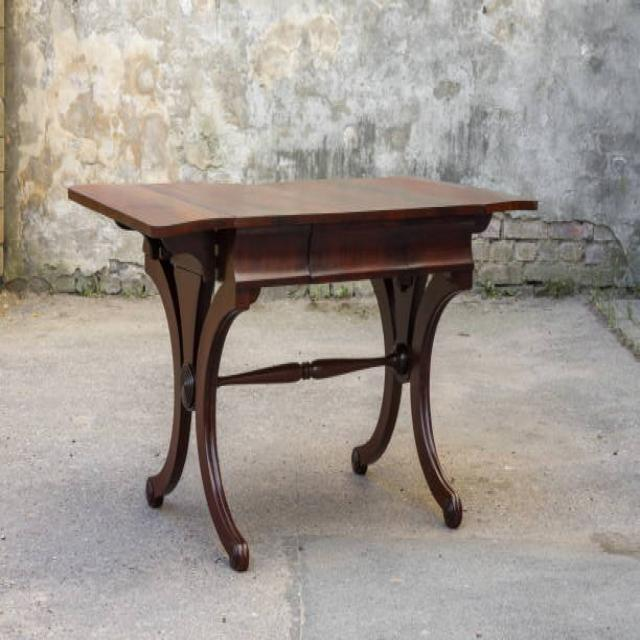table: (66, 172, 538, 572)
